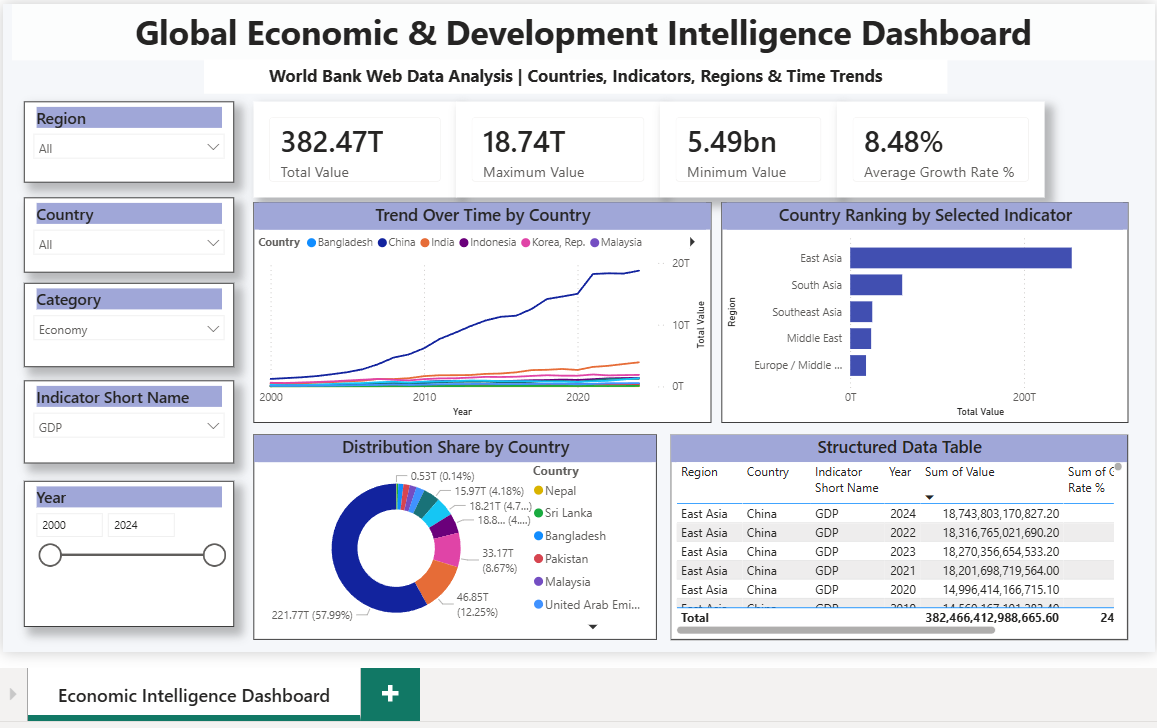

What the dashboard file says about the page in this screenshot:
{"tool":"powerbi","page":{"name":"Economic Intelligence Dashboard","canvas":[1280,720],"ordinal":0},"visuals":[{"type":"textbox","box":[9.4,0,1269.9,62.4],"z":0},{"type":"textbox","box":[223,62.4,825.8,37.8],"z":1},{"type":"slicer","fields":{"Values":["DimCountry.Region"]},"box":[23.3,108.3,233.3,90],"z":2},{"type":"slicer","fields":{"Values":["DimCountry.Country"]},"box":[23.3,215,233.3,83.3],"z":3},{"type":"slicer","fields":{"Values":["DimIndicator.Category"]},"box":[23.3,310,233.3,93.3],"z":4},{"type":"slicer","fields":{"Values":["DimIndicator.Indicator Short Name"]},"box":[23.3,418.3,233.3,91.7],"z":5},{"type":"slicer","fields":{"Values":["DimYear.Year"]},"box":[23.3,530,233.3,161.7],"z":6},{"type":"cardVisual","fields":{"Data":["Fact_WorldBankData.Total Value"]},"box":[278.3,108.3,225,106.7],"z":7},{"type":"cardVisual","fields":{"Data":["Fact_WorldBankData.Maximum Value"]},"box":[503.3,108.3,226.7,106.7],"z":8},{"type":"cardVisual","fields":{"Data":["Fact_WorldBankData.Minimum Value"]},"box":[730,108.5,196.9,106.9],"z":9},{"type":"cardVisual","fields":{"Data":["Fact_WorldBankData.Average Growth Rate %"]},"box":[926.9,108.5,230.8,106.9],"z":10},{"type":"lineChart","title":"Trend Over Time by Country","fields":{"Category":["DimYear.Year"],"Y2":["Fact_WorldBankData.Total Value"],"Series":["DimCountry.Country"]},"box":[278.3,220,508.3,245],"z":11},{"type":"clusteredBarChart","title":"Country Ranking by Selected Indicator","fields":{"Category":["DimCountry.Region","DimCountry.Country"],"Y":["Fact_WorldBankData.Total Value"]},"box":[798.3,220,451.7,245],"z":12},{"type":"donutChart","title":"Distribution Share by Country","fields":{"Category":["DimCountry.Country"],"Y":["Fact_WorldBankData.Total Value"]},"box":[278,478,448,228],"z":13},{"type":"tableEx","title":"Structured Data Table","fields":{"Values":["DimCountry.Region","DimCountry.Country","DimIndicator.Indicator Short Name","DimYear.Year","Sum(Fact_WorldBankData.Value)","Sum(Fact_WorldBankData.Growth Rate %)","Sum(Fact_WorldBankData.Country Share %)"]},"box":[742,478,508,228],"z":14}]}

Visuals, with their boxes on the page's 1280x720 design canvas (x1, y1, x2, y2). These are canvas units, not pixel positions in the 1157x728 screenshot, which may show the page scaled, cropped or inside an application window:
textbox: [9, 0, 1279, 62]
textbox: [223, 62, 1049, 100]
slicer - DimCountry.Region: [23, 108, 257, 198]
slicer - DimCountry.Country: [23, 215, 257, 298]
slicer - DimIndicator.Category: [23, 310, 257, 403]
slicer - DimIndicator.Indicator Short Name: [23, 418, 257, 510]
slicer - DimYear.Year: [23, 530, 257, 692]
cardVisual - Fact_WorldBankData.Total Value: [278, 108, 503, 215]
cardVisual - Fact_WorldBankData.Maximum Value: [503, 108, 730, 215]
cardVisual - Fact_WorldBankData.Minimum Value: [730, 108, 927, 215]
cardVisual - Fact_WorldBankData.Average Growth Rate %: [927, 108, 1158, 215]
"Trend Over Time by Country" lineChart: [278, 220, 787, 465]
"Country Ranking by Selected Indicator" clusteredBarChart: [798, 220, 1250, 465]
"Distribution Share by Country" donutChart: [278, 478, 726, 706]
"Structured Data Table" tableEx: [742, 478, 1250, 706]
